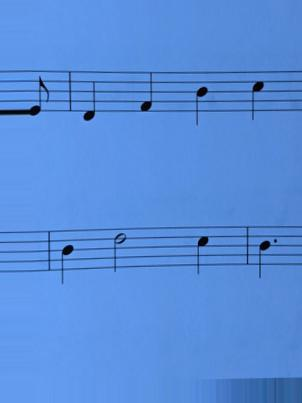note: (55, 224, 79, 292), (79, 65, 100, 129), (192, 66, 211, 132), (246, 66, 267, 125), (192, 219, 212, 279), (254, 222, 272, 285), (136, 66, 156, 120)
